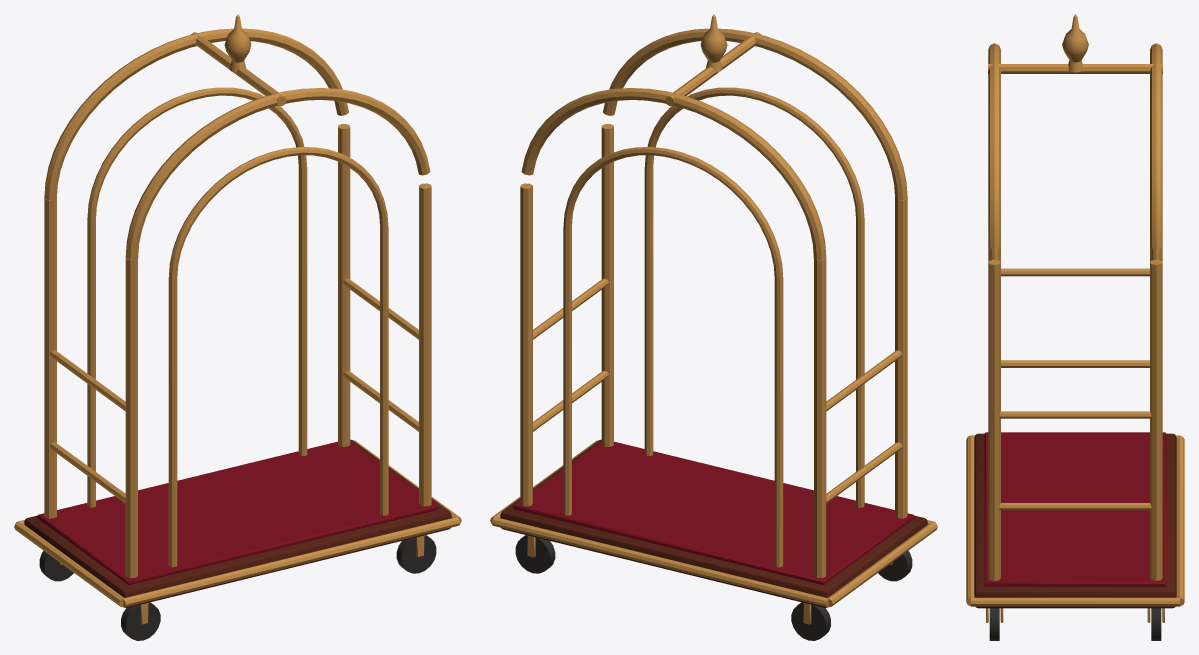
Rendered from LuggageCart.glb.
The picture shows the model from 3 angles, left to right: view 1: azimuth 30°, elevation 25°; view 2: azimuth 150°, elevation 25°; view 3: azimuth 270°, elevation 25°; orthographic projection.
Parts seen in each view (by area): view 1: LuggageCart_Frame, LuggageCart_Carpet, LuggageCart_Deck, LuggageCart_Wheels; view 2: LuggageCart_Frame, LuggageCart_Carpet, LuggageCart_Deck, LuggageCart_Wheels; view 3: LuggageCart_Frame, LuggageCart_Carpet, LuggageCart_Deck, LuggageCart_Wheels.
Part boxes in pixels (bbox=[...]): LuggageCart_Frame: bbox=[14, 14, 461, 624]; LuggageCart_Carpet: bbox=[37, 441, 438, 584]; LuggageCart_Deck: bbox=[24, 439, 451, 607]; LuggageCart_Wheels: bbox=[39, 535, 436, 640]; LuggageCart_Frame: bbox=[490, 14, 937, 624]; LuggageCart_Carpet: bbox=[513, 441, 914, 584]; LuggageCart_Deck: bbox=[500, 439, 927, 607]; LuggageCart_Wheels: bbox=[515, 535, 912, 640]; LuggageCart_Frame: bbox=[966, 14, 1184, 622]; LuggageCart_Carpet: bbox=[984, 432, 1166, 586]; LuggageCart_Deck: bbox=[974, 433, 1176, 608]; LuggageCart_Wheels: bbox=[989, 608, 1161, 640].
Bounding box in the file's own units: 1.17 × 1.83 × 0.648.
